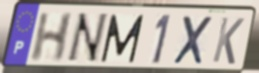1: (152, 13, 172, 67)
H: (28, 11, 76, 64)
K: (210, 16, 246, 67)
M: (99, 13, 147, 64)
N: (63, 12, 110, 65)
X: (171, 14, 215, 67)
